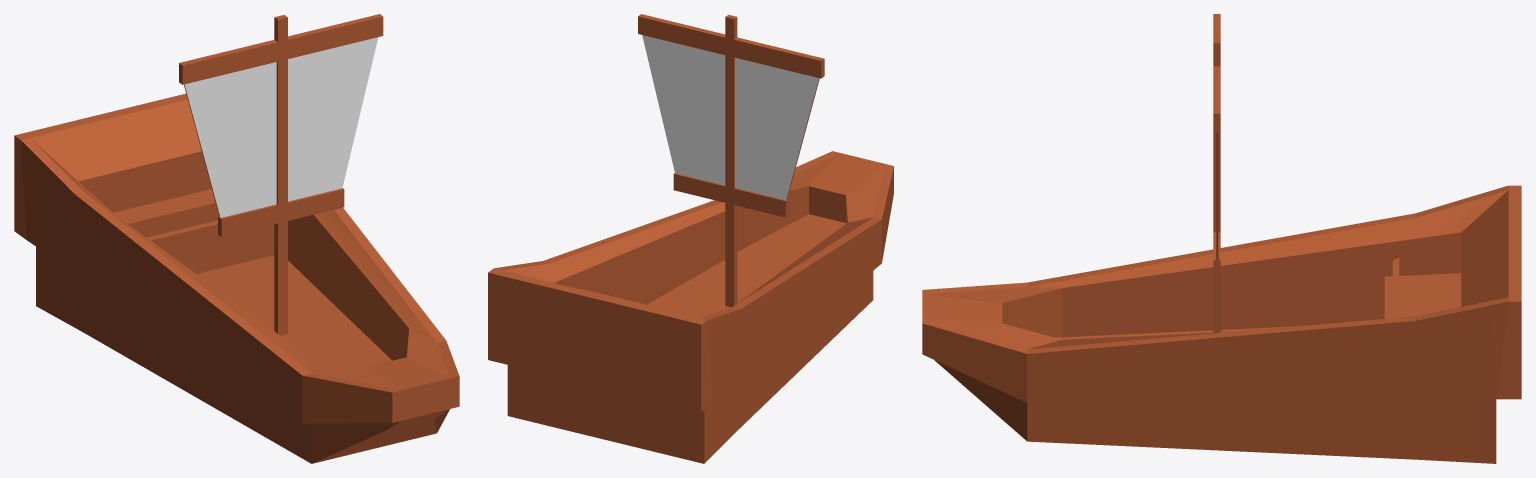
File: _arco 1.fbx
3 views of the same model, side by side, from view 1: azimuth 30°, elevation 25°; view 2: azimuth 150°, elevation 25°; view 3: azimuth 270°, elevation 25° (orthographic). The views are drawn at different scales.
Parts seen in each view (by area): view 1: pCube4; view 2: pCube4; view 3: pCube4.
Part boxes in pixels (x1=…): pCube4: x1=14, y1=14, x2=459, y2=463; pCube4: x1=488, y1=14, x2=893, y2=463; pCube4: x1=922, y1=14, x2=1521, y2=463.
Size of the model in its own units: 252 by 374 by 550.
